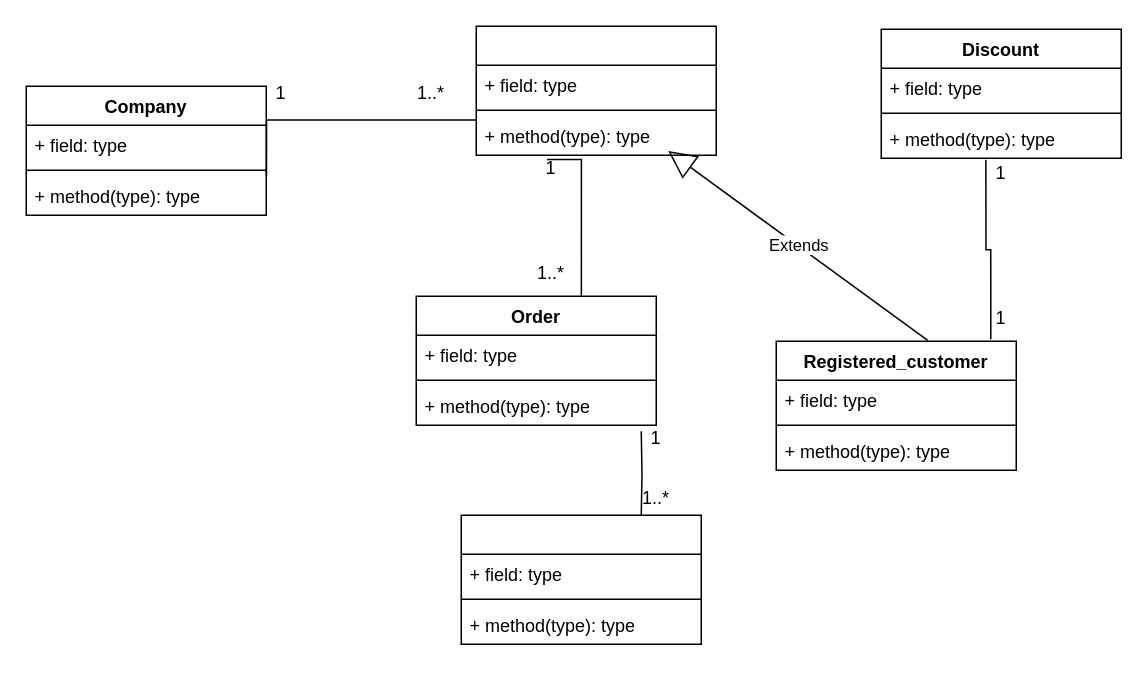
Some shapes in this 1148 by 675 pixel diagram are drawn without their labels. Here are the shapes that lost their labels. From the top down, the box of each, then its label:
(475, 25, 716, 155): Customer
(460, 514, 701, 644): Item
